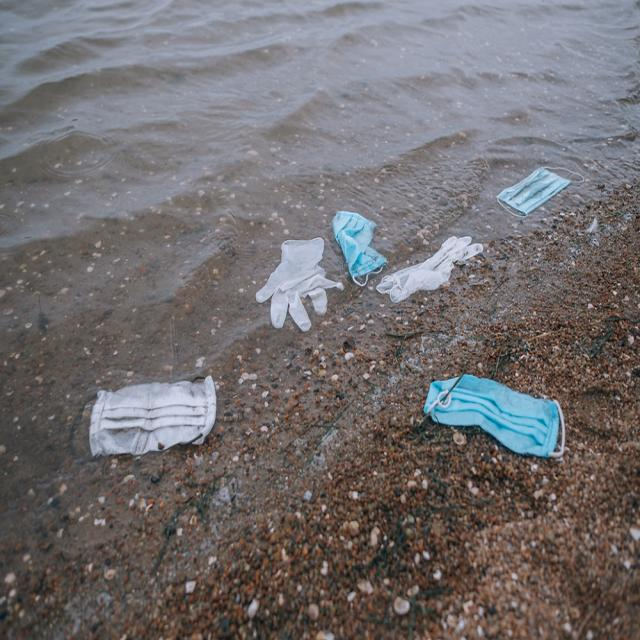non-organic waste: (414, 366, 576, 456), (86, 366, 221, 464), (497, 154, 575, 220)
